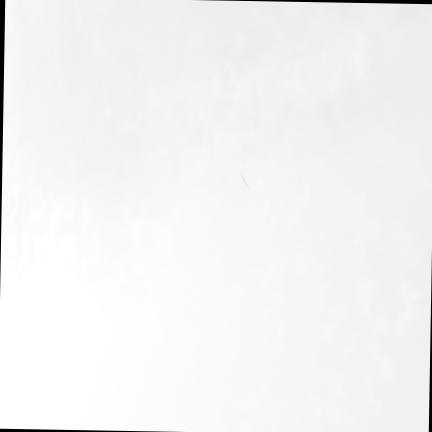Shahed: (238, 169, 249, 189)
